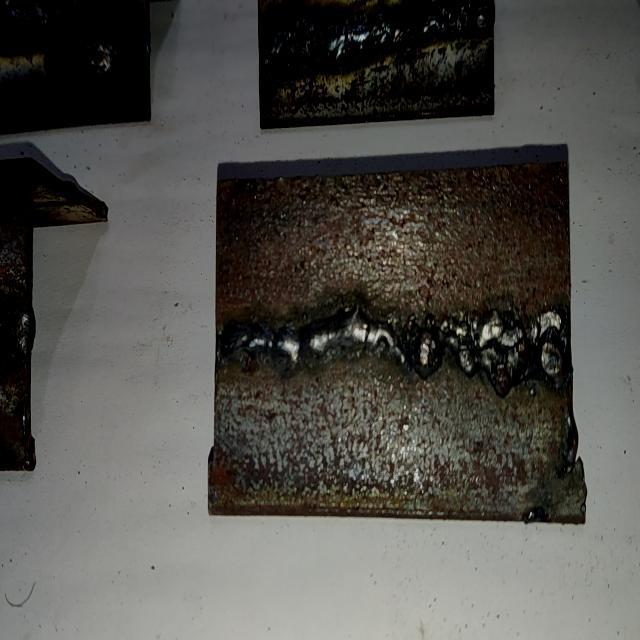Defect: (271, 5, 487, 60), (467, 293, 565, 405), (0, 0, 144, 67)
Welding Line: (222, 310, 570, 389)
Workpiece: (212, 167, 582, 518), (257, 0, 494, 132)
